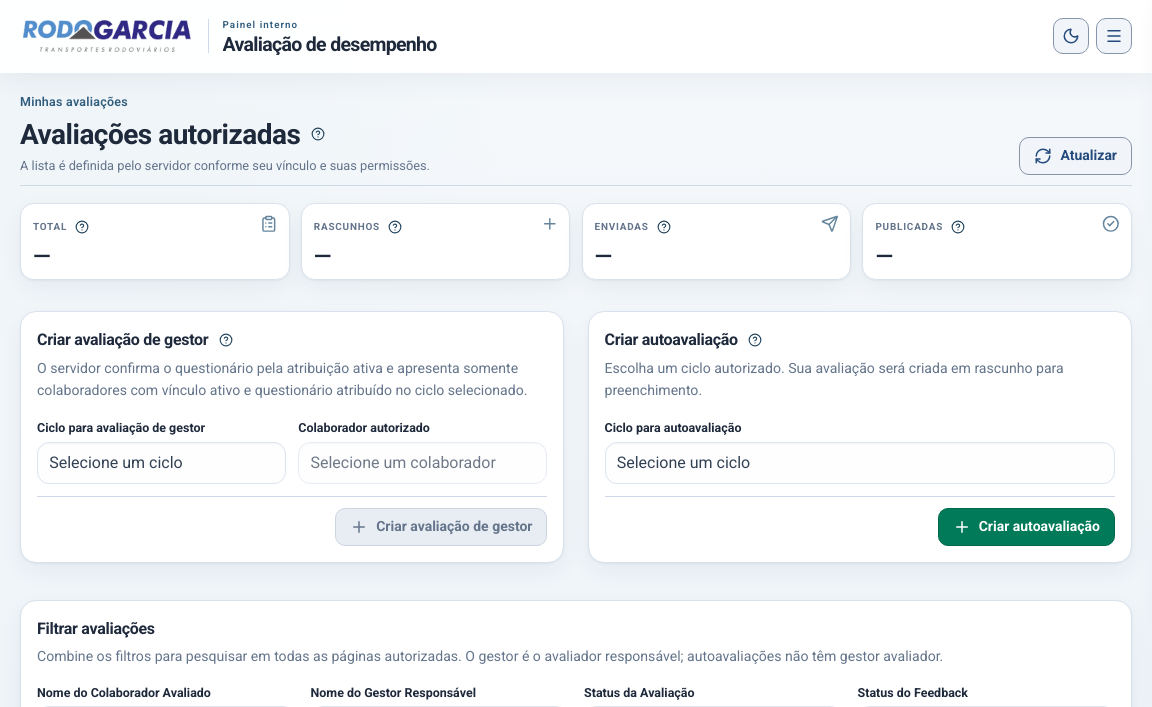
App › GESTOR: remove a opção de GESTOR após criar e voltar pela navegação real
The image size is (1152, 707).
Expected: the dropdown labelled "Ciclo para autoavaliação" is shown, [604, 442, 1115, 484]
Select "Ciclo fictício dos perfis" in the dropdown labelled "Ciclo para avaliação de gestor" at [162, 463], box [37, 442, 286, 484]
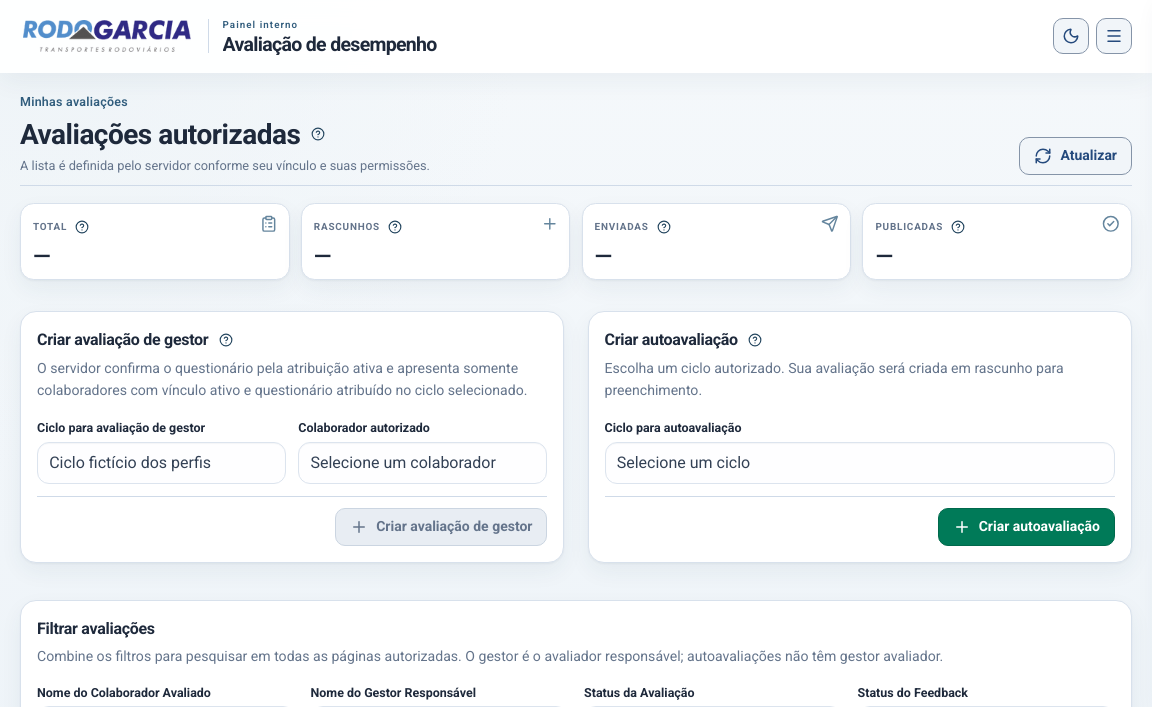
Result: the dropdown labelled "Colaborador autorizado" is enabled
Select "Pessoa fictícia vinculada" in the dropdown labelled "Colaborador autorizado" at [423, 463], box [298, 442, 548, 484]
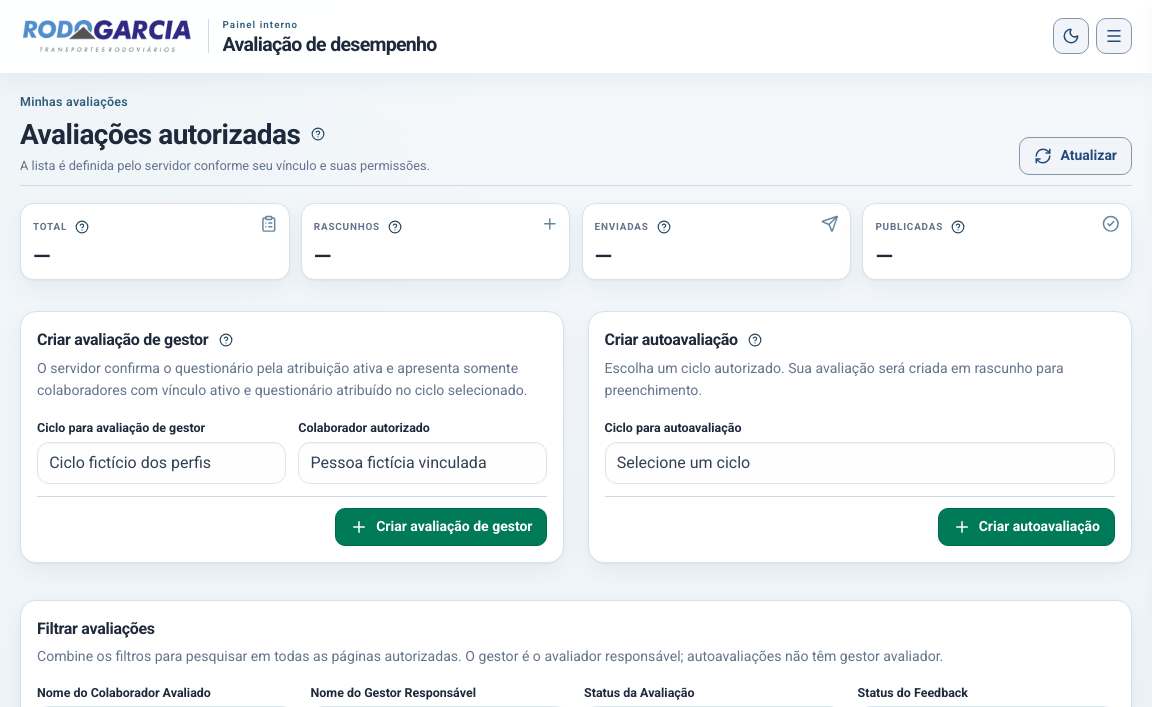
Click the button "Criar avaliação de gestor" at [441, 527], box [335, 508, 548, 546]
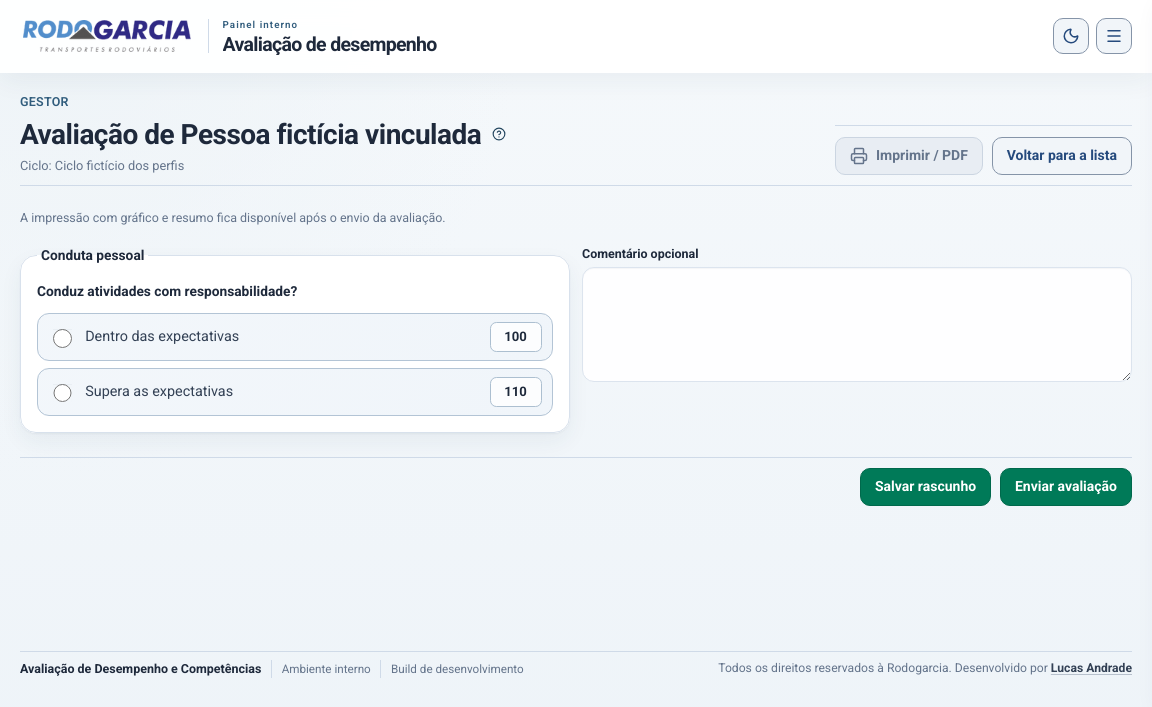
Click the button "Voltar para a lista" at [1062, 156], box [992, 137, 1132, 175]
(page scrolled)
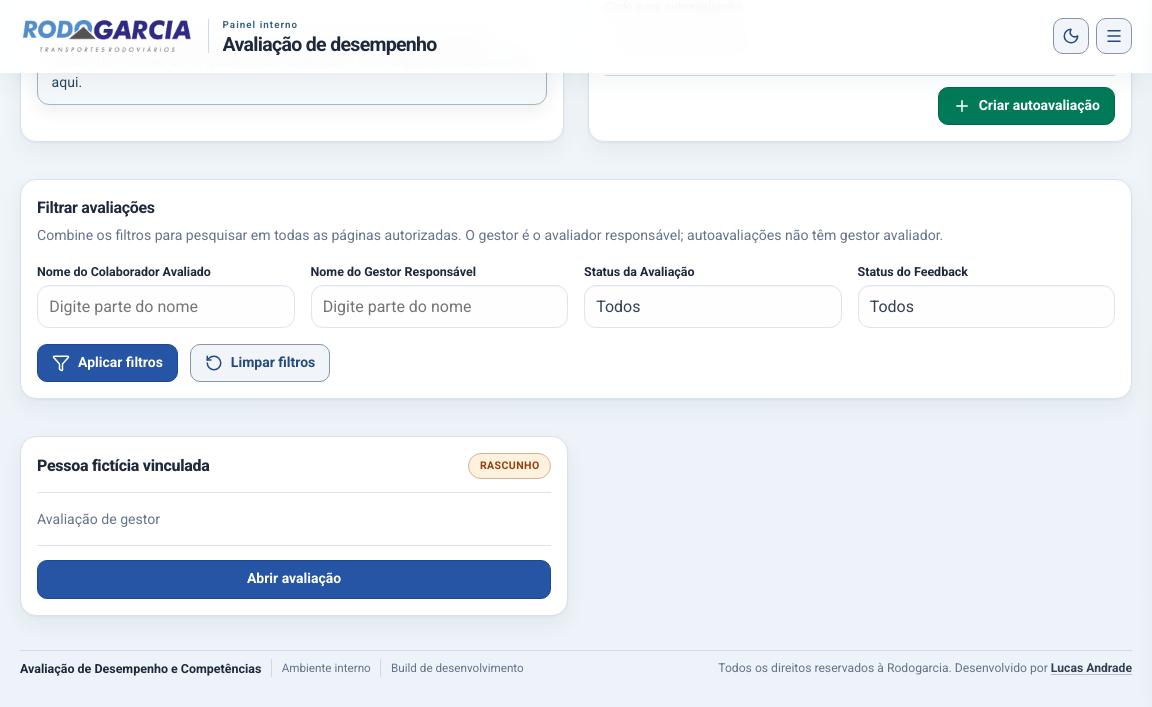
Expected: the dropdown labelled "Ciclo para autoavaliação" is enabled, [604, 21, 1115, 63]
Result: the button "Abrir avaliação" is shown at [37, 560, 551, 599]
